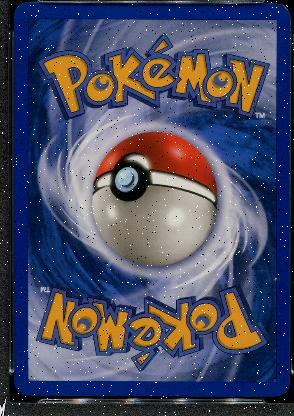Card: (11, 1, 291, 399)
Corner Wear: (280, 3, 291, 15), (281, 385, 288, 393), (13, 5, 19, 12), (15, 388, 20, 392)
Edge Wear: (147, 394, 179, 396)
Scratch: (225, 154, 232, 166), (22, 80, 30, 88), (271, 275, 280, 281), (276, 372, 282, 380)
